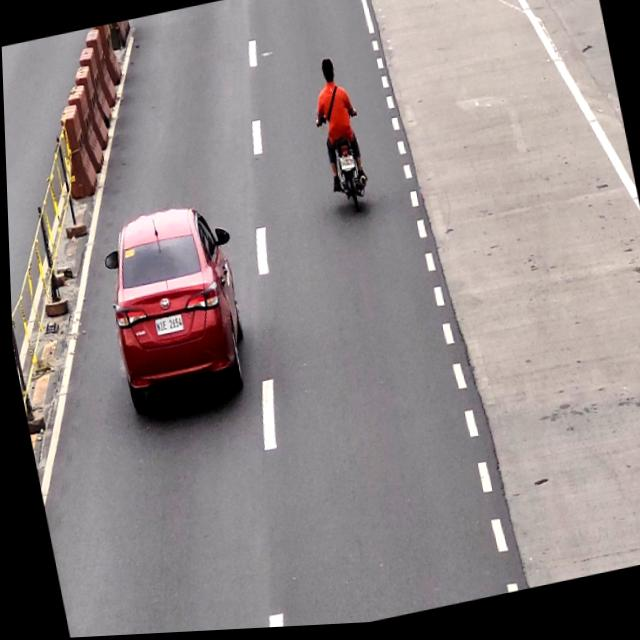Car: (92, 198, 251, 413)
License-Plate: (150, 314, 182, 338), (336, 156, 357, 178)
Motorcycle: (308, 58, 370, 224)
